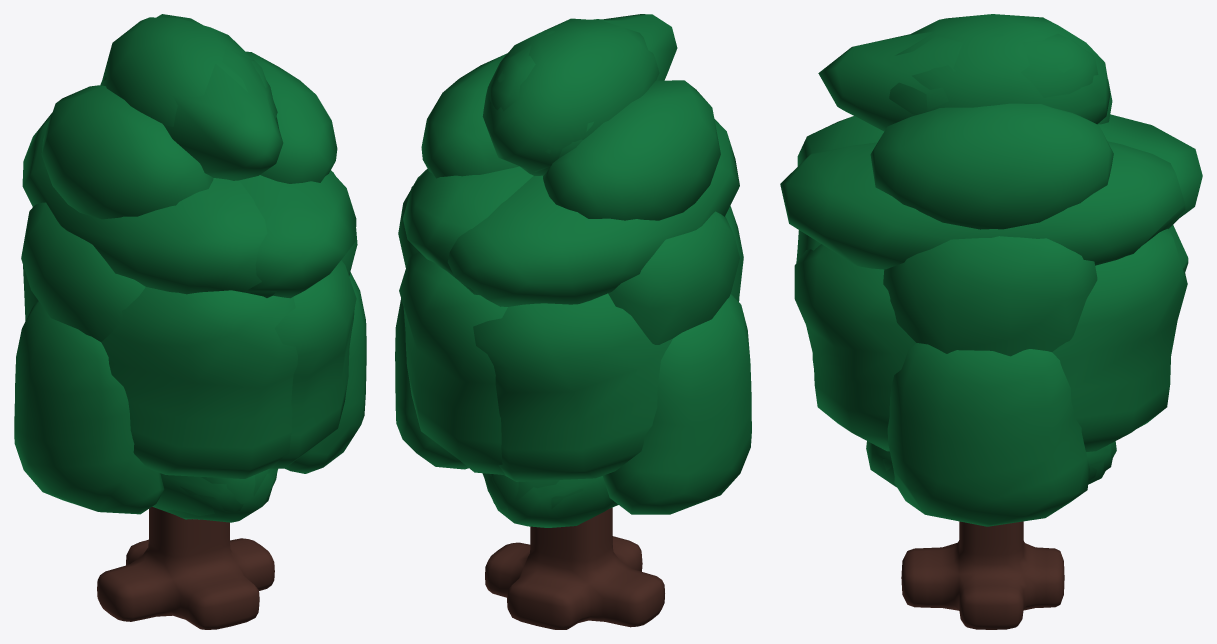
File: testtree_t2.fbx
3 views of the same model, side by side, from view 1: azimuth 30°, elevation 25°; view 2: azimuth 150°, elevation 25°; view 3: azimuth 270°, elevation 25° (orthographic).
Visible parts, largest first — view 1: Trunk; view 2: Trunk; view 3: Trunk.
Boxes of the visible parts, x1,y1,x2,y2 form: Trunk: [14, 14, 366, 629]; Trunk: [395, 14, 751, 629]; Trunk: [780, 14, 1202, 629].
Bounding box in the file's own units: 260 × 437 × 291.
